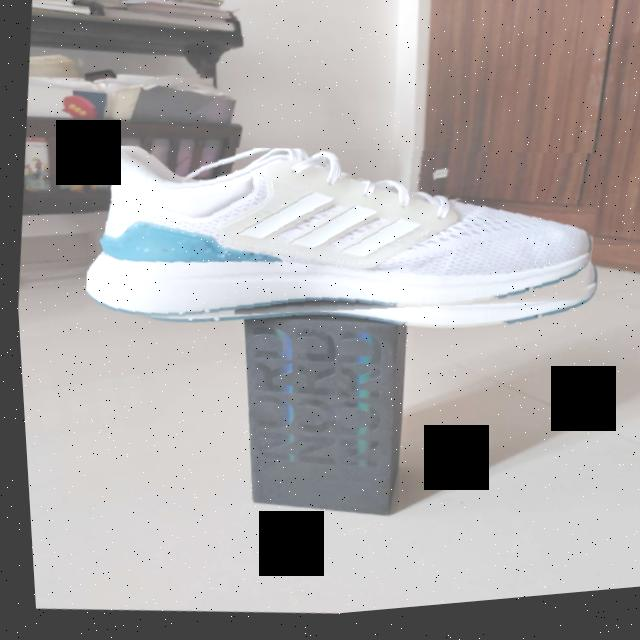shoe: (72, 111, 609, 376)
